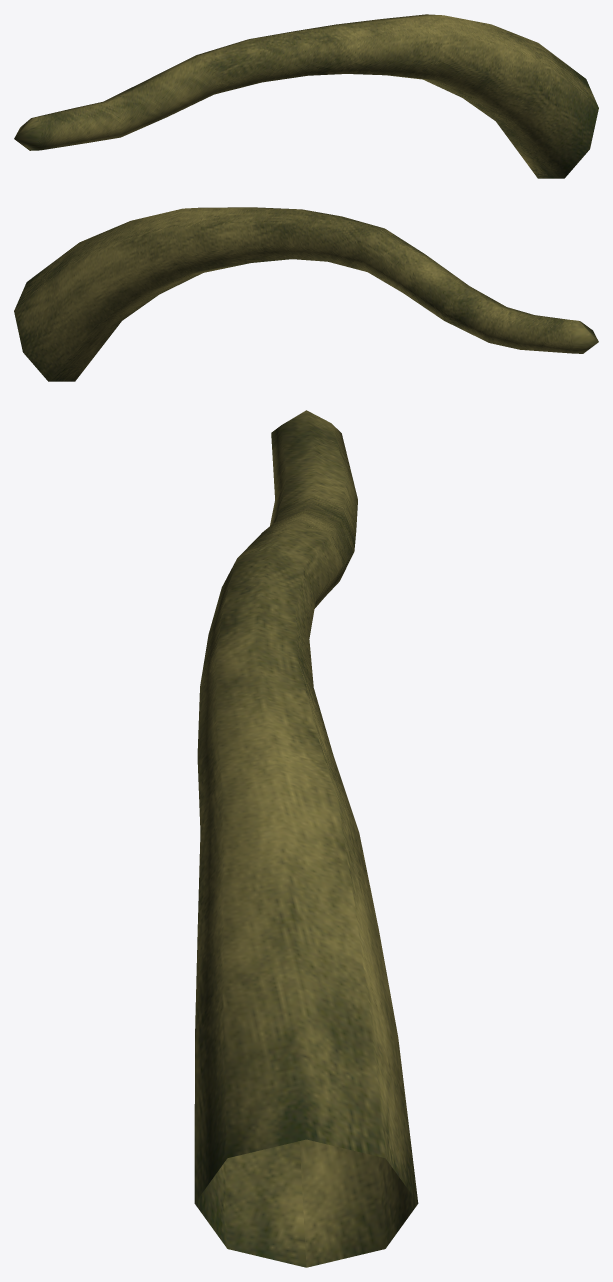
The model's file is Palm.FBX.
3 renders of one model, top to bottom at view 1: azimuth 30°, elevation 25°; view 2: azimuth 150°, elevation 25°; view 3: azimuth 270°, elevation 25°, orthographic. The views are drawn at different scales.
Parts seen in each view (by area): view 1: Palmboomstam003; view 2: Palmboomstam003; view 3: Palmboomstam003.
Part boxes in pixels (bbox=[...]): Palmboomstam003: bbox=[14, 14, 598, 178]; Palmboomstam003: bbox=[14, 207, 598, 381]; Palmboomstam003: bbox=[194, 410, 418, 1267].
Bounding box in the file's own units: 133 × 48.22 × 22.46.
